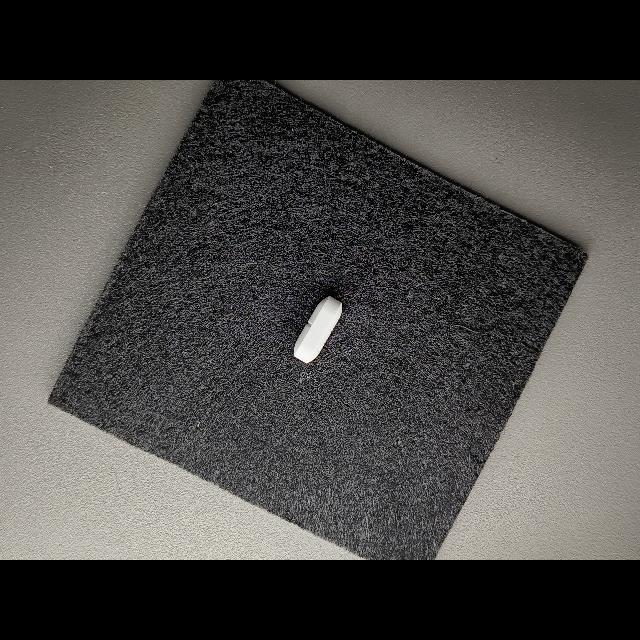Intact Pill: (294, 296, 342, 363)
